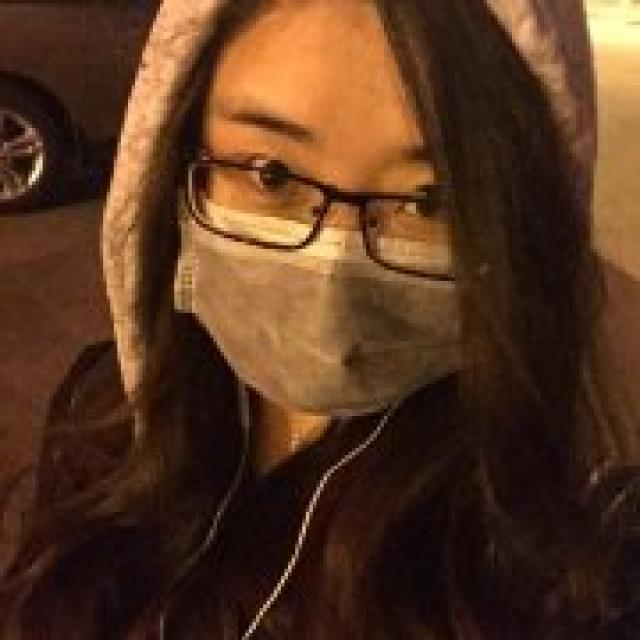mask: (183, 0, 500, 420)
